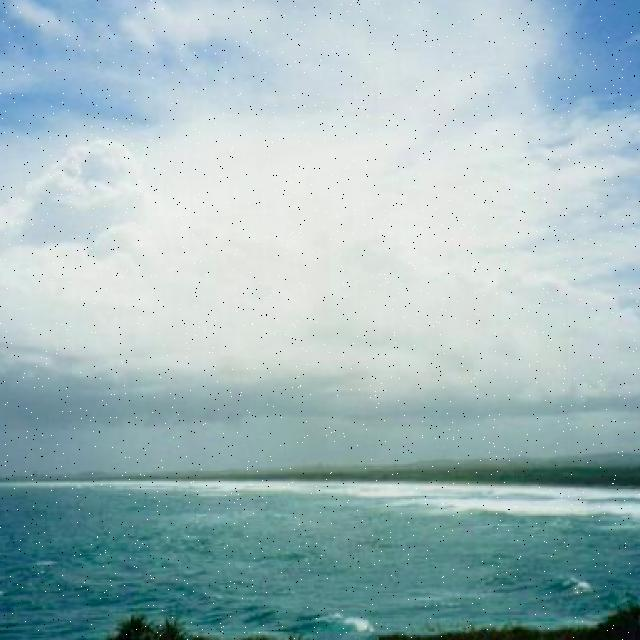Cs: (1, 33, 640, 440)
